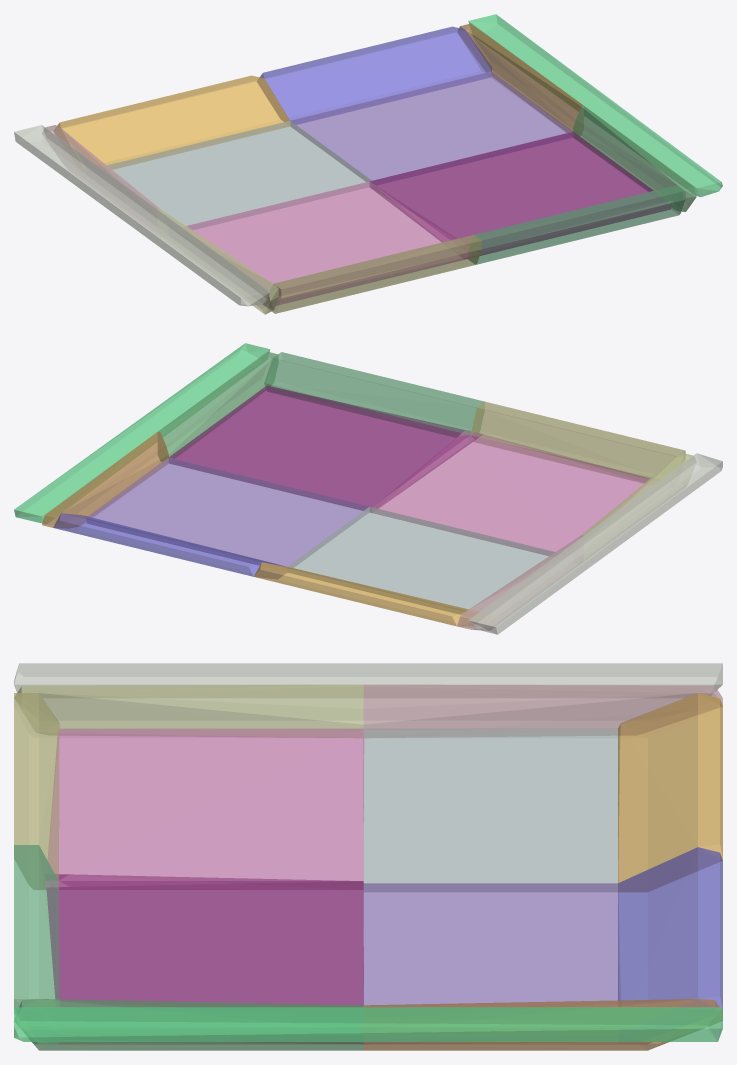
The model's file is tray_compound.dae.
3 renders of one model, top to bottom at view 1: azimuth 30°, elevation 25°; view 2: azimuth 150°, elevation 25°; view 3: azimuth 270°, elevation 25°, orthographic. The views are drawn at different scales.
Visible parts, largest first — view 1: Shape_IndexedFaceSet_009, Shape_IndexedFaceSet_007, Shape_IndexedFaceSet_012, Shape_IndexedFaceSet_010, Shape_IndexedFaceSet_013, Shape_IndexedFaceSet_011, Shape_IndexedFaceSet, Shape_IndexedFaceSet_001, Shape_IndexedFaceSet_006, Shape_IndexedFaceSet_008, Shape_IndexedFaceSet_005, Shape_IndexedFaceSet_003 (+2 smaller); view 2: Shape_IndexedFaceSet_009, Shape_IndexedFaceSet_007, Shape_IndexedFaceSet_012, Shape_IndexedFaceSet_010, Shape_IndexedFaceSet_008, Shape_IndexedFaceSet_006, Shape_IndexedFaceSet, Shape_IndexedFaceSet_001, Shape_IndexedFaceSet_003, Shape_IndexedFaceSet_013, Shape_IndexedFaceSet_005, Shape_IndexedFaceSet_011 (+2 smaller); view 3: Shape_IndexedFaceSet_007, Shape_IndexedFaceSet_010, Shape_IndexedFaceSet_009, Shape_IndexedFaceSet_012, Shape_IndexedFaceSet_001, Shape_IndexedFaceSet, Shape_IndexedFaceSet_011, Shape_IndexedFaceSet_002, Shape_IndexedFaceSet_004, Shape_IndexedFaceSet_013, Shape_IndexedFaceSet_003, Shape_IndexedFaceSet_005 (+2 smaller).
Part boxes in pixels (bbox=[...]): Shape_IndexedFaceSet_009: bbox=[370, 132, 671, 258]; Shape_IndexedFaceSet_007: bbox=[186, 181, 465, 306]; Shape_IndexedFaceSet_012: bbox=[291, 71, 572, 185]; Shape_IndexedFaceSet_010: bbox=[106, 121, 371, 229]; Shape_IndexedFaceSet_013: bbox=[257, 26, 491, 124]; Shape_IndexedFaceSet_011: bbox=[53, 75, 289, 169]; Shape_IndexedFaceSet: bbox=[14, 125, 270, 306]; Shape_IndexedFaceSet_001: bbox=[468, 14, 722, 197]; Shape_IndexedFaceSet_006: bbox=[265, 234, 481, 313]; Shape_IndexedFaceSet_008: bbox=[468, 185, 685, 264]; Shape_IndexedFaceSet_005: bbox=[457, 23, 583, 135]; Shape_IndexedFaceSet_003: bbox=[573, 106, 696, 211]; Shape_IndexedFaceSet_009: bbox=[169, 386, 482, 512]; Shape_IndexedFaceSet_007: bbox=[372, 430, 651, 555]; Shape_IndexedFaceSet_012: bbox=[86, 457, 368, 567]; Shape_IndexedFaceSet_010: bbox=[287, 506, 554, 614]; Shape_IndexedFaceSet_008: bbox=[264, 352, 484, 437]; Shape_IndexedFaceSet_006: bbox=[470, 401, 685, 483]; Shape_IndexedFaceSet: bbox=[468, 453, 722, 634]; Shape_IndexedFaceSet_001: bbox=[14, 343, 270, 523]; Shape_IndexedFaceSet_003: bbox=[158, 352, 278, 461]; Shape_IndexedFaceSet_013: bbox=[53, 513, 286, 578]; Shape_IndexedFaceSet_005: bbox=[42, 432, 168, 527]; Shape_IndexedFaceSet_011: bbox=[254, 562, 478, 627]; Shape_IndexedFaceSet_007: bbox=[45, 729, 364, 889]; Shape_IndexedFaceSet_010: bbox=[363, 729, 618, 891]; Shape_IndexedFaceSet_009: bbox=[46, 874, 363, 1043]; Shape_IndexedFaceSet_012: bbox=[363, 883, 618, 1043]; Shape_IndexedFaceSet_001: bbox=[14, 1007, 722, 1041]; Shape_IndexedFaceSet: bbox=[14, 663, 722, 697]; Shape_IndexedFaceSet_011: bbox=[618, 693, 722, 891]; Shape_IndexedFaceSet_002: bbox=[15, 684, 363, 737]; Shape_IndexedFaceSet_004: bbox=[363, 684, 722, 737]; Shape_IndexedFaceSet_013: bbox=[618, 847, 722, 1043]; Shape_IndexedFaceSet_003: bbox=[15, 999, 363, 1050]; Shape_IndexedFaceSet_005: bbox=[363, 999, 722, 1050].
Size of the model in its own units: 0.4476 by 0.3674 by 0.0259.
